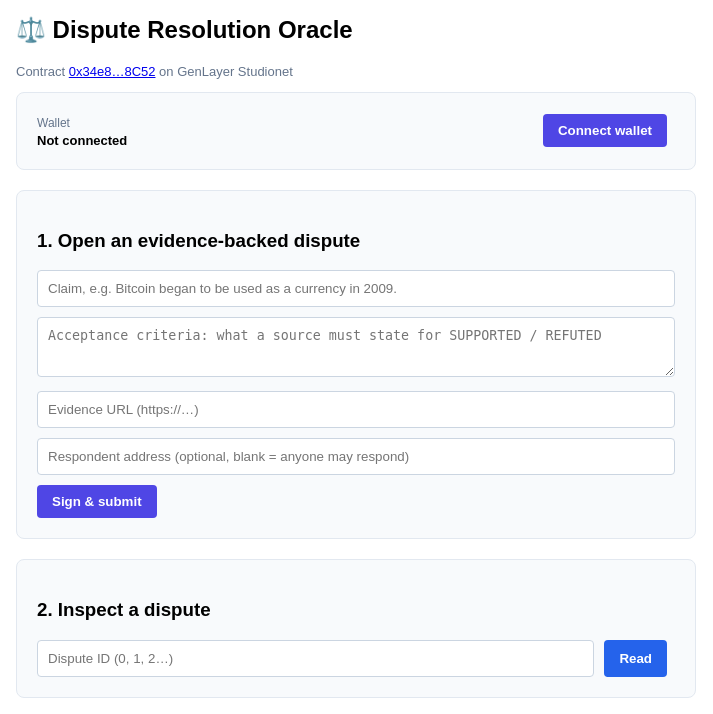
Test case: App › displays an explicit error when the response is malformed
Type "0" into the field labelled "Dispute ID".
click(316, 658); type("0")  # box top-left (37, 640), bottom-right (594, 677)
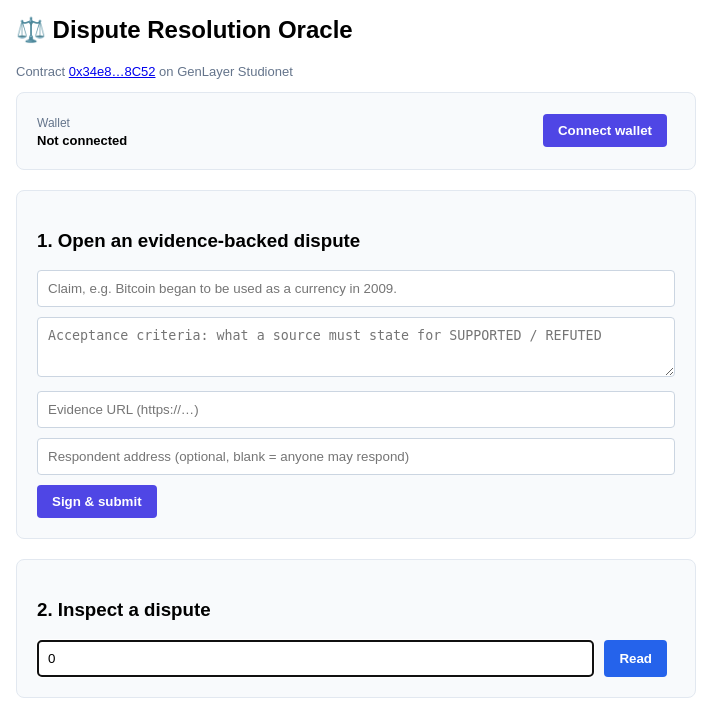
Click the button "Read".
click(636, 658)  # box top-left (604, 640), bottom-right (667, 677)
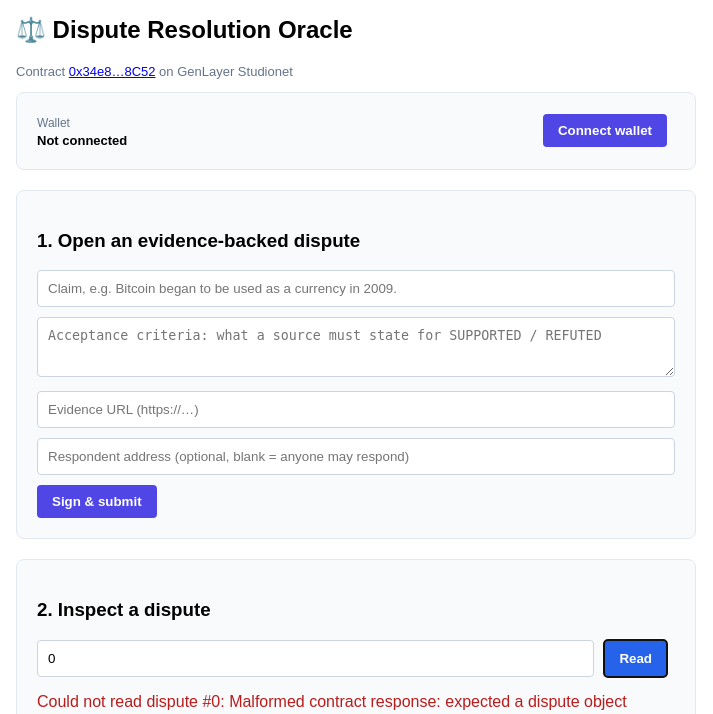
Check: the message shows "Malformed contract response", box top-left (37, 693), bottom-right (627, 710)
